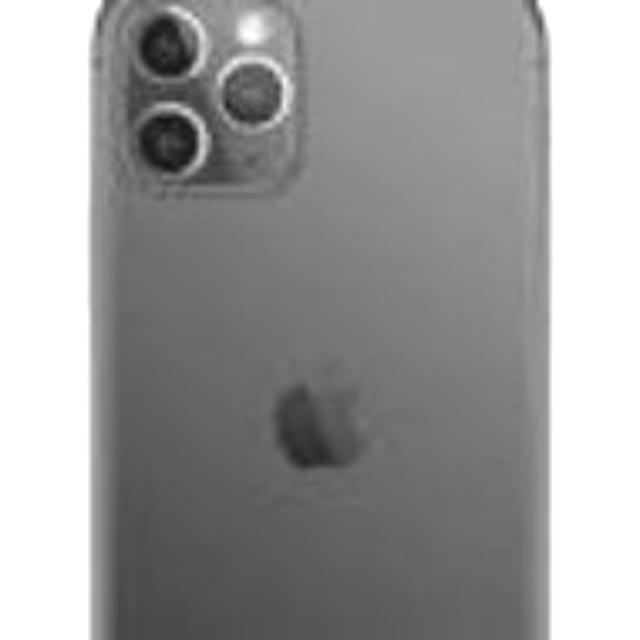fake: (80, 0, 546, 626)
